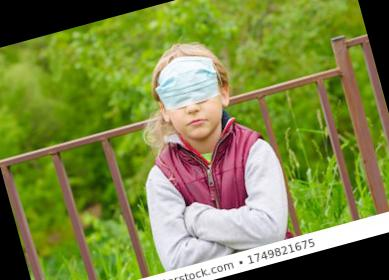mask_weared_incorrect: (153, 57, 230, 145)
